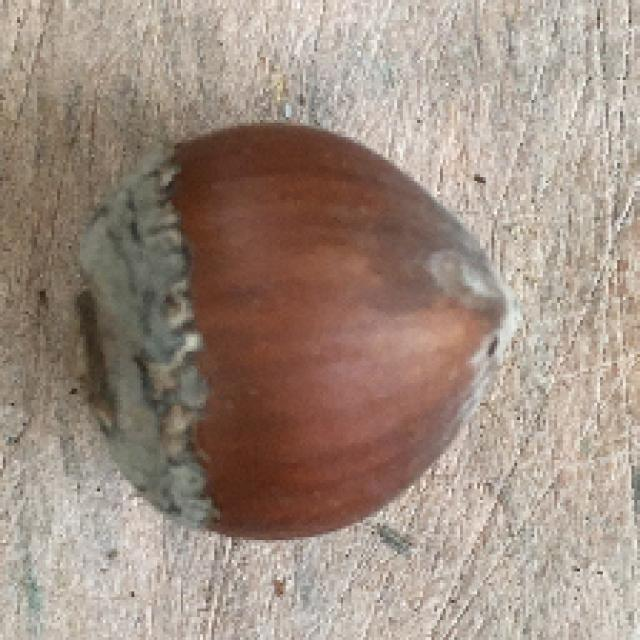damagedHazelnut: (68, 118, 521, 540)
